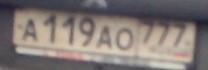license-plateSW: (14, 6, 195, 63)
